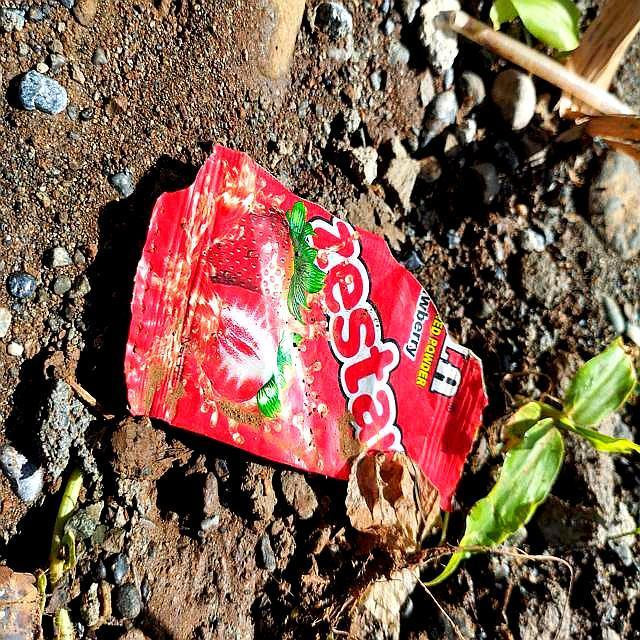Non-biodegradable: (122, 142, 491, 514)
